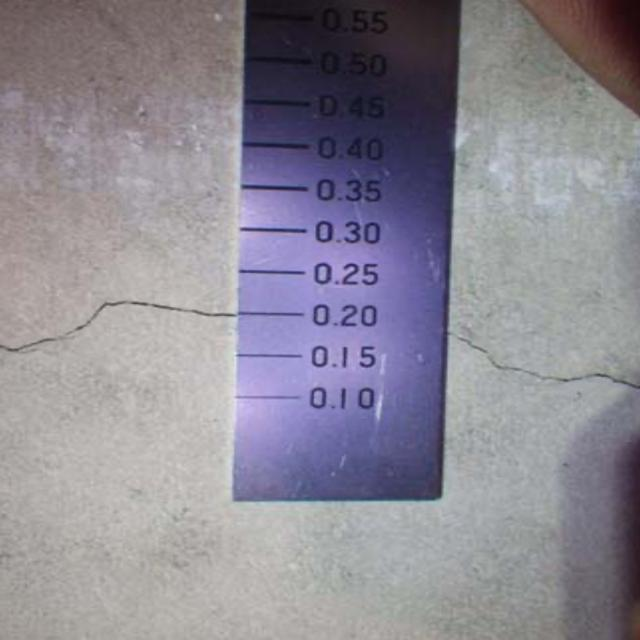crack: (448, 303, 638, 427), (0, 283, 239, 380)
